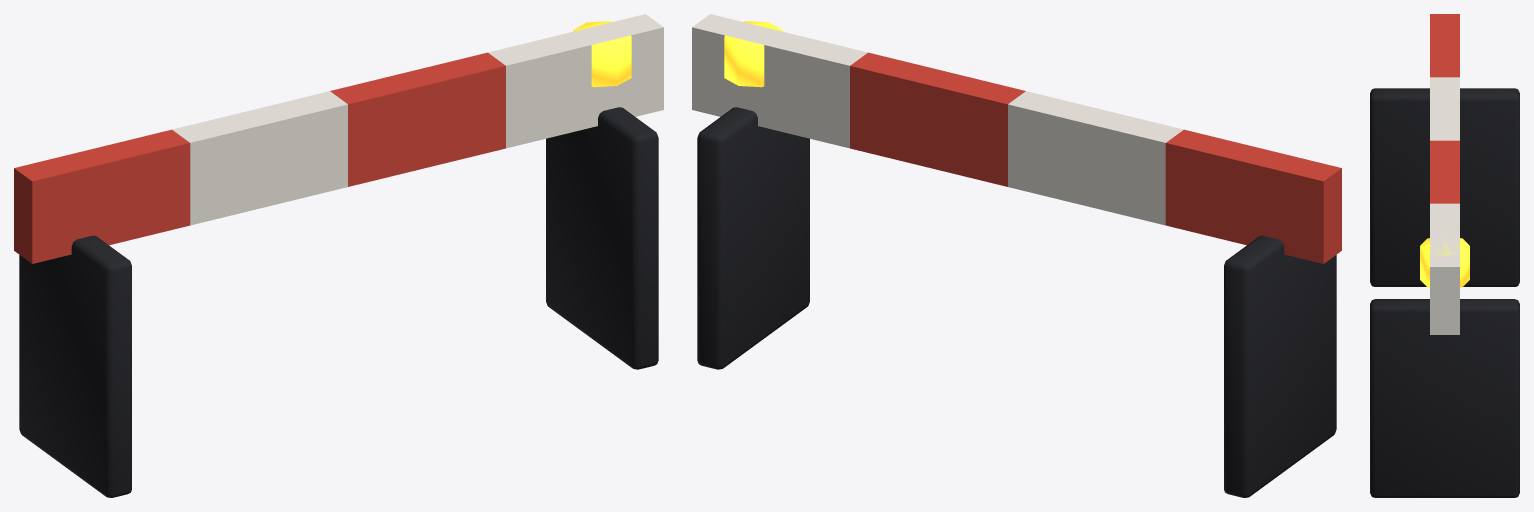
Rendered from barrier_works.gltf.
The picture shows the model from 3 angles, left to right: view 1: azimuth 30°, elevation 25°; view 2: azimuth 150°, elevation 25°; view 3: azimuth 270°, elevation 25°; orthographic projection. The views are drawn at different scales.
Parts seen in each view (by area): view 1: barrier_works_mesh; view 2: barrier_works_mesh; view 3: barrier_works_mesh.
Boxes of the visible parts, box(x1,y1,x2,y2) form: barrier_works_mesh: box(14, 14, 663, 497); barrier_works_mesh: box(692, 14, 1341, 497); barrier_works_mesh: box(1370, 14, 1519, 497).
Size of what is drawn, in the model's own units: 2.4 by 1.1 by 0.6.
